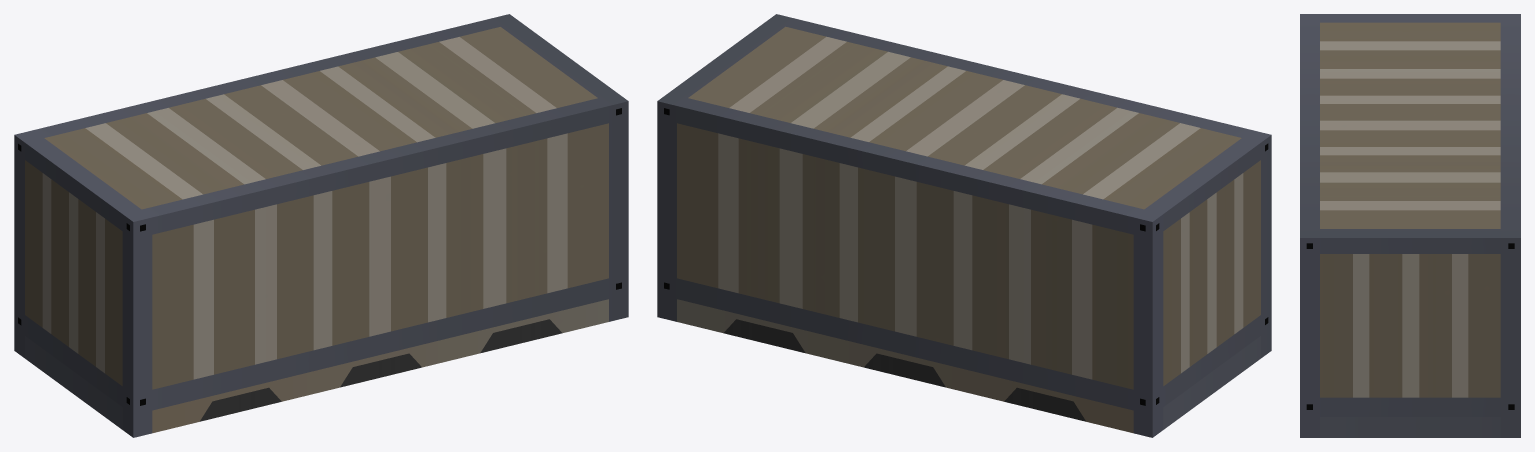
Rendered from SM_Container_2.FBX.
The picture shows the model from 3 angles, left to right: view 1: azimuth 30°, elevation 25°; view 2: azimuth 150°, elevation 25°; view 3: azimuth 270°, elevation 25°; orthographic projection. The views are drawn at different scales.
Parts seen in each view (by area): view 1: SM_Container_2; view 2: SM_Container_2; view 3: SM_Container_2.
Boxes of the visible parts, left/top/right/bottom form: SM_Container_2: left=14, top=14, right=628, bottom=437; SM_Container_2: left=657, top=14, right=1271, bottom=437; SM_Container_2: left=1300, top=14, right=1520, bottom=437.
Size of what is drawn, in the model's own units: 600 by 250 by 250.
